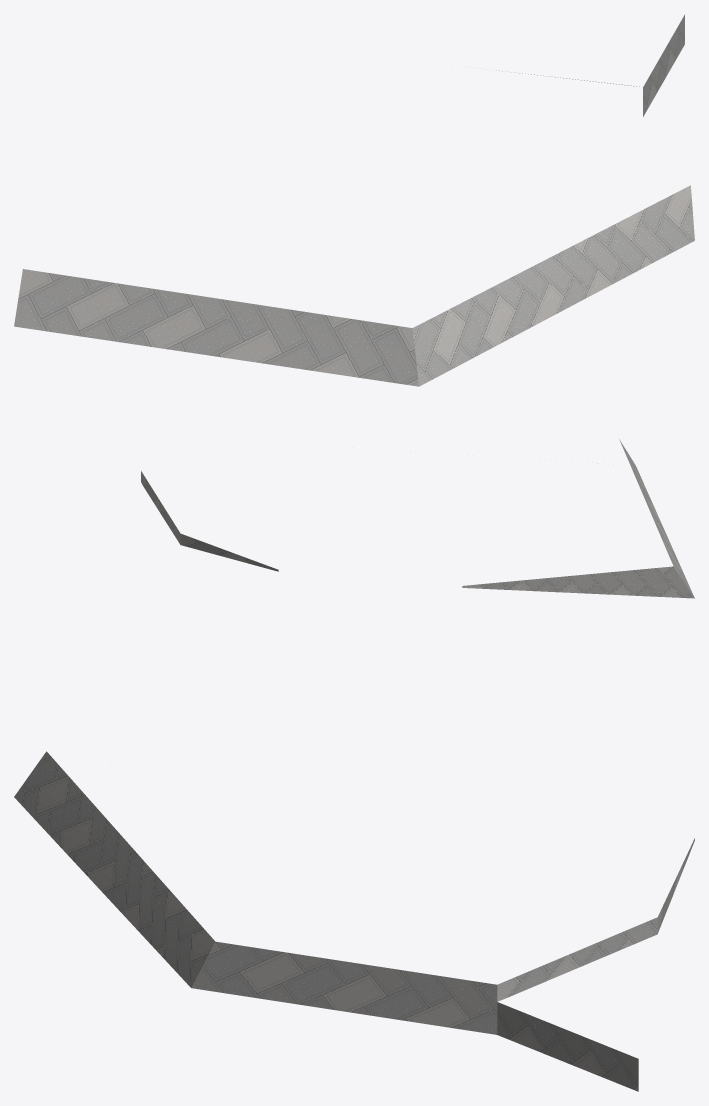
Rendered from kd_stage_136282_3_32.glb.
3 renders of one model, top to bottom at view 1: azimuth 30°, elevation 25°; view 2: azimuth 150°, elevation 25°; view 3: azimuth 270°, elevation 25°, orthographic. The views are drawn at different scales.
Visible parts, largest first — view 1: kd_stage_136282_3_32; view 2: kd_stage_136282_3_32; view 3: kd_stage_136282_3_32.
Part boxes in pixels (x1,y1,x2,y2): kd_stage_136282_3_32: (14,14,694,386); kd_stage_136282_3_32: (141,439,694,598); kd_stage_136282_3_32: (14,751,694,1091).
Size of the model in its own units: 7.7 by 0.4249 by 5.22.
1 material, 1 textured.
